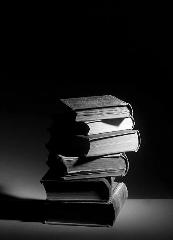paper: (44, 181, 128, 227), (40, 168, 116, 202), (60, 94, 132, 122), (58, 152, 128, 180), (72, 130, 140, 156), (76, 116, 136, 134)
